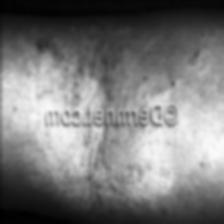Non-Cancerous Skin Condition: (12, 20, 139, 103), (50, 134, 163, 220)
